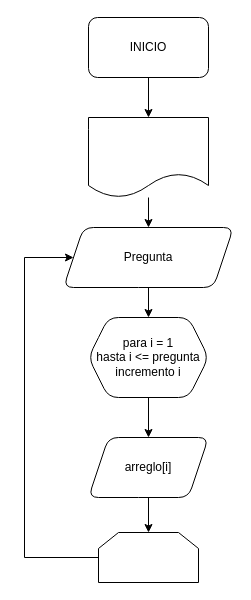
Some shapes in this 251 by 600 pixel diagram are drawn without their labels. Each missing label, with the centre of its shape:
Cuantos arreglos quieres tener: the point at 148,157
Fin (para): the point at 148,557
